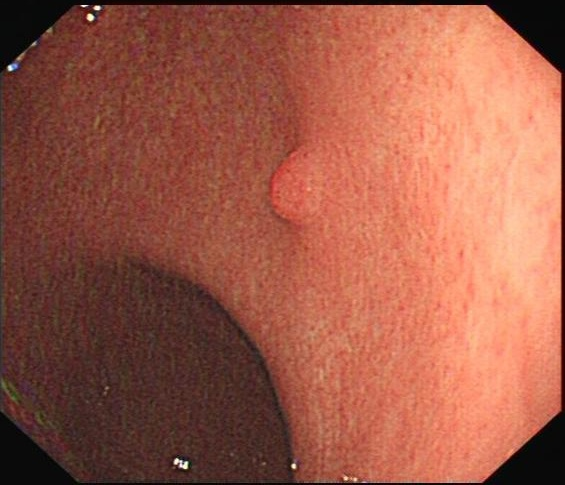Polyp: (259, 133, 337, 230)
